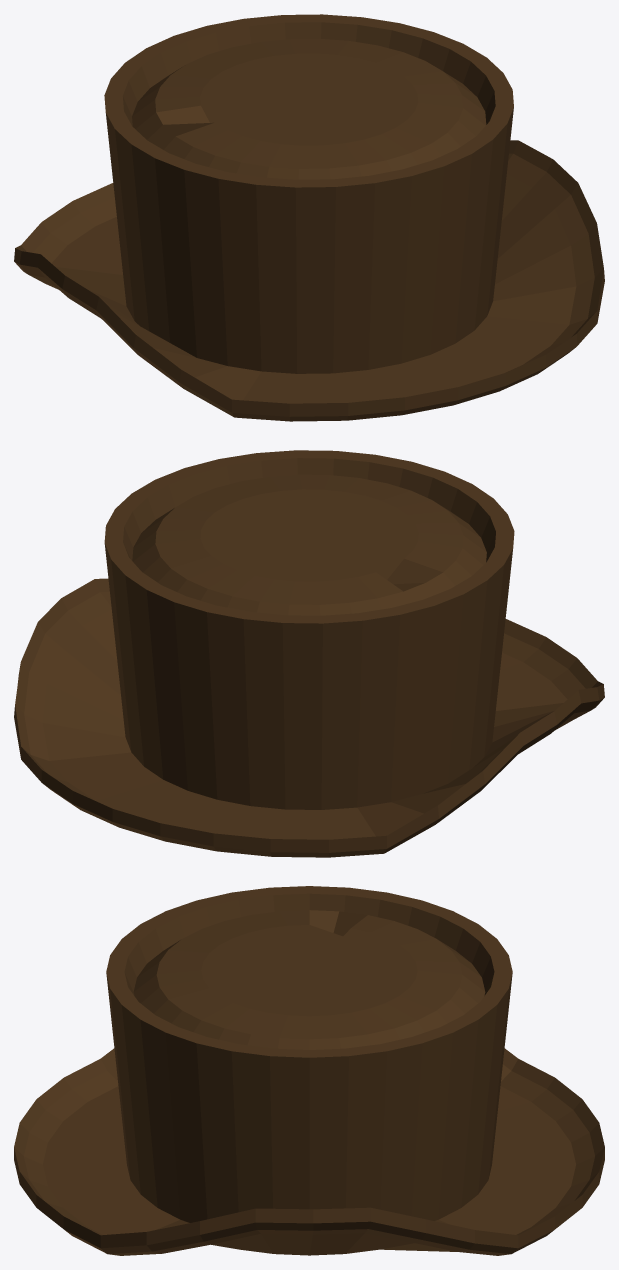
Rendered from porkpiehatoldold.fbx.
3 renders of one model, top to bottom at view 1: azimuth 30°, elevation 25°; view 2: azimuth 150°, elevation 25°; view 3: azimuth 270°, elevation 25°, orthographic.
Visible parts, largest first — view 1: Circle.007; view 2: Circle.007; view 3: Circle.007.
Boxes of the visible parts, left/top/right/bottom form: Circle.007: left=14, top=14, right=604, bottom=421; Circle.007: left=14, top=450, right=604, bottom=857; Circle.007: left=14, top=886, right=604, bottom=1255.
Bounding box in the file's own units: 75.24 × 30.43 × 78.41.
